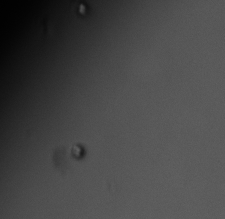Dead Cell: (70, 142, 86, 161)
Living Cell: (75, 2, 88, 15)
